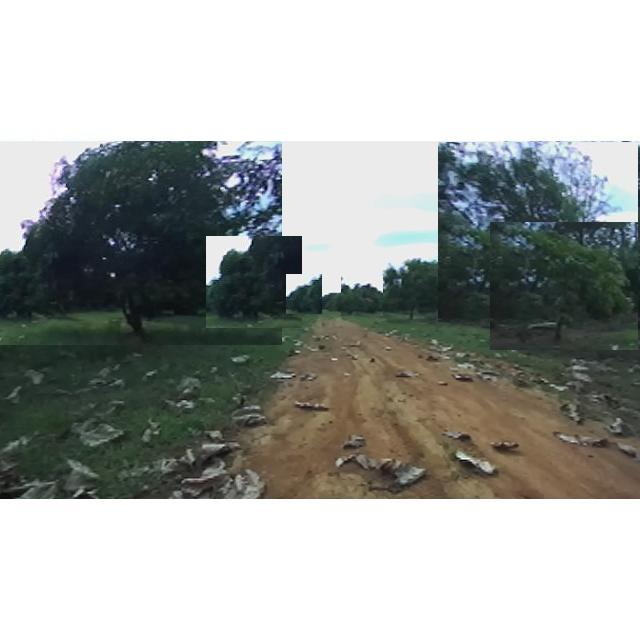direk: (0, 141, 282, 345), (438, 142, 638, 322), (490, 222, 638, 350), (206, 236, 302, 328), (376, 250, 454, 322), (341, 276, 383, 316), (286, 274, 322, 314)
